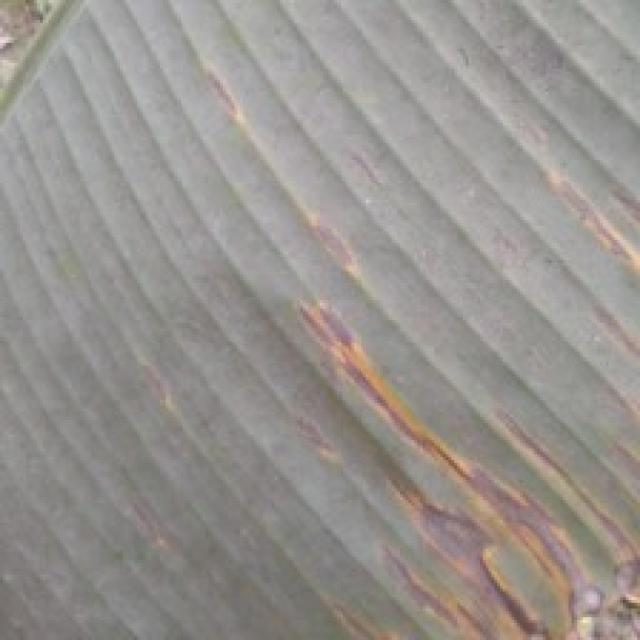Early_leaf_spot: (256, 280, 596, 640), (551, 166, 640, 312), (281, 199, 367, 296), (195, 56, 267, 156)
